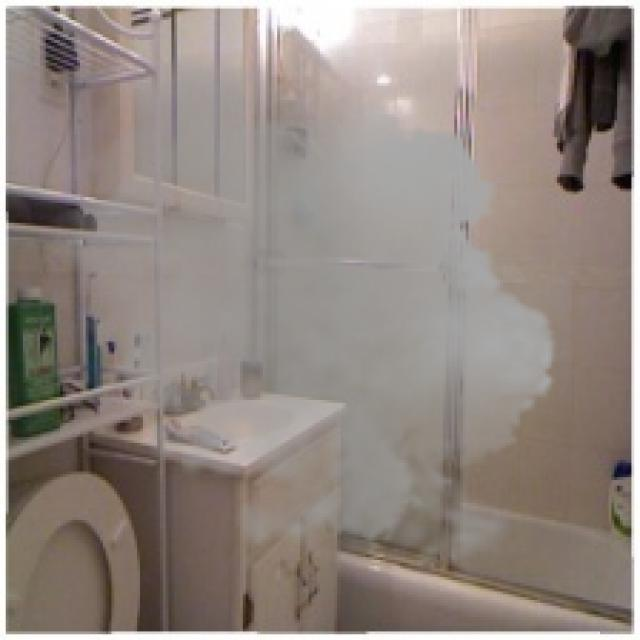smoke: (29, 43, 572, 583)
